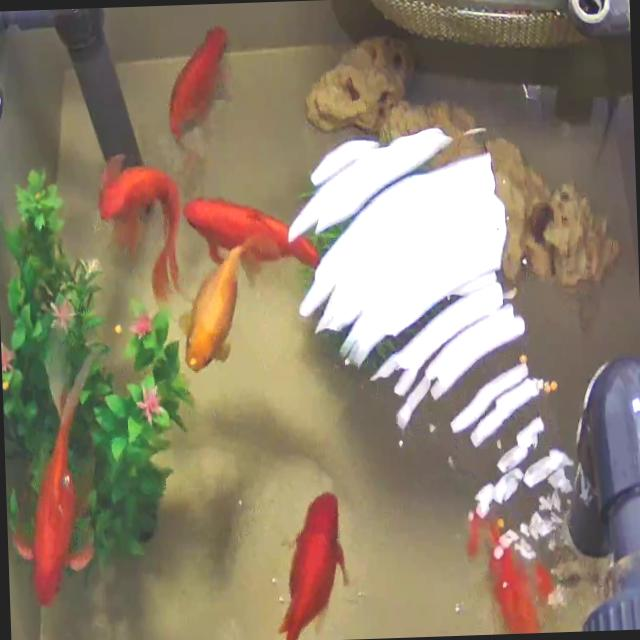fish: (434, 503, 592, 636), (22, 381, 96, 600), (256, 487, 350, 640), (96, 157, 186, 305), (178, 234, 260, 378), (183, 193, 314, 280), (164, 24, 234, 153)
